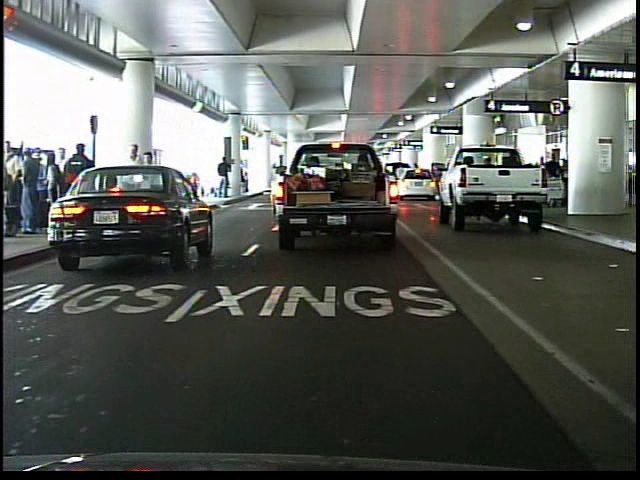person: (63, 138, 98, 239), (122, 142, 146, 231), (139, 147, 164, 230), (215, 156, 233, 199)
